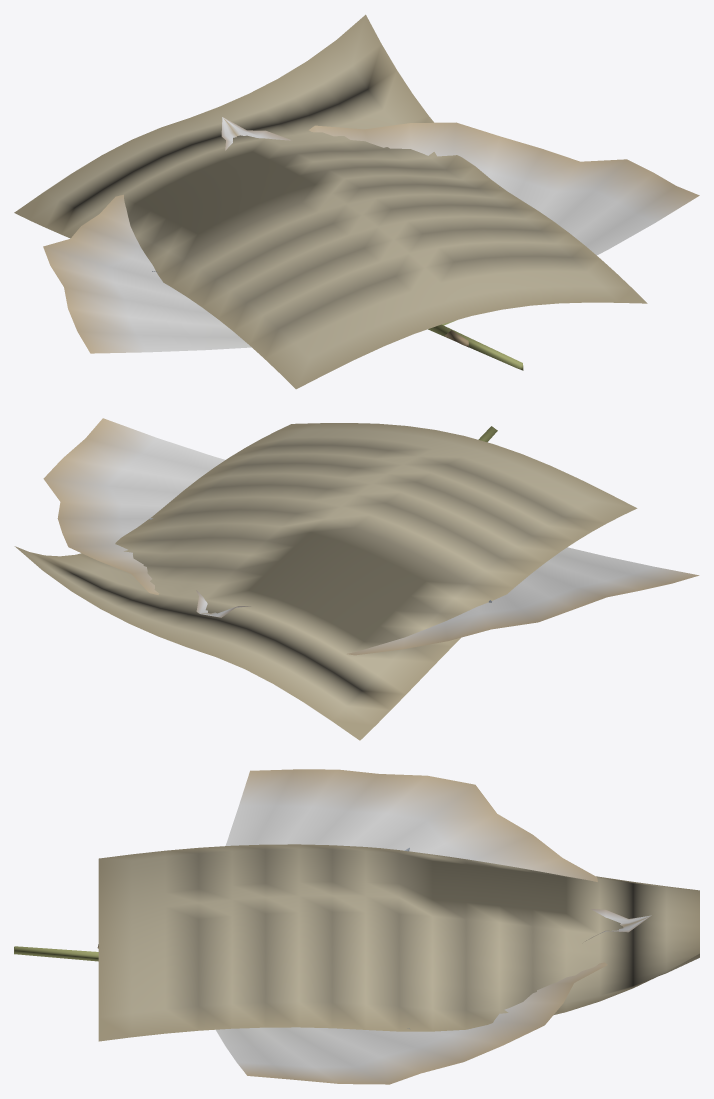
The model's file is stop.glb.
3 views of the same model, one above another, from view 1: azimuth 30°, elevation 25°; view 2: azimuth 150°, elevation 25°; view 3: azimuth 270°, elevation 25° (orthographic). The views are drawn at different scales.
Visible parts, largest first — view 1: bill, ginkgo, zelkova; view 2: bill, ginkgo; view 3: bill, ginkgo, zelkova.
Boxes of the visible parts, <box> form: bill: <box>14,14,647,389</box>; ginkgo: <box>43,122,699,370</box>; zelkova: <box>221,117,469,347</box>; bill: <box>14,423,637,740</box>; ginkgo: <box>43,418,699,655</box>; bill: <box>98,844,699,1041</box>; ginkgo: <box>14,769,607,1084</box>; zelkova: <box>97,909,651,948</box>.
Bounding box in the file's own units: 1.24 × 0.2461 × 1.14.
